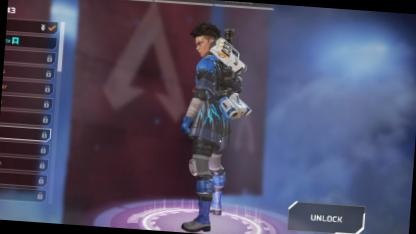Target: (176, 22, 258, 196)
